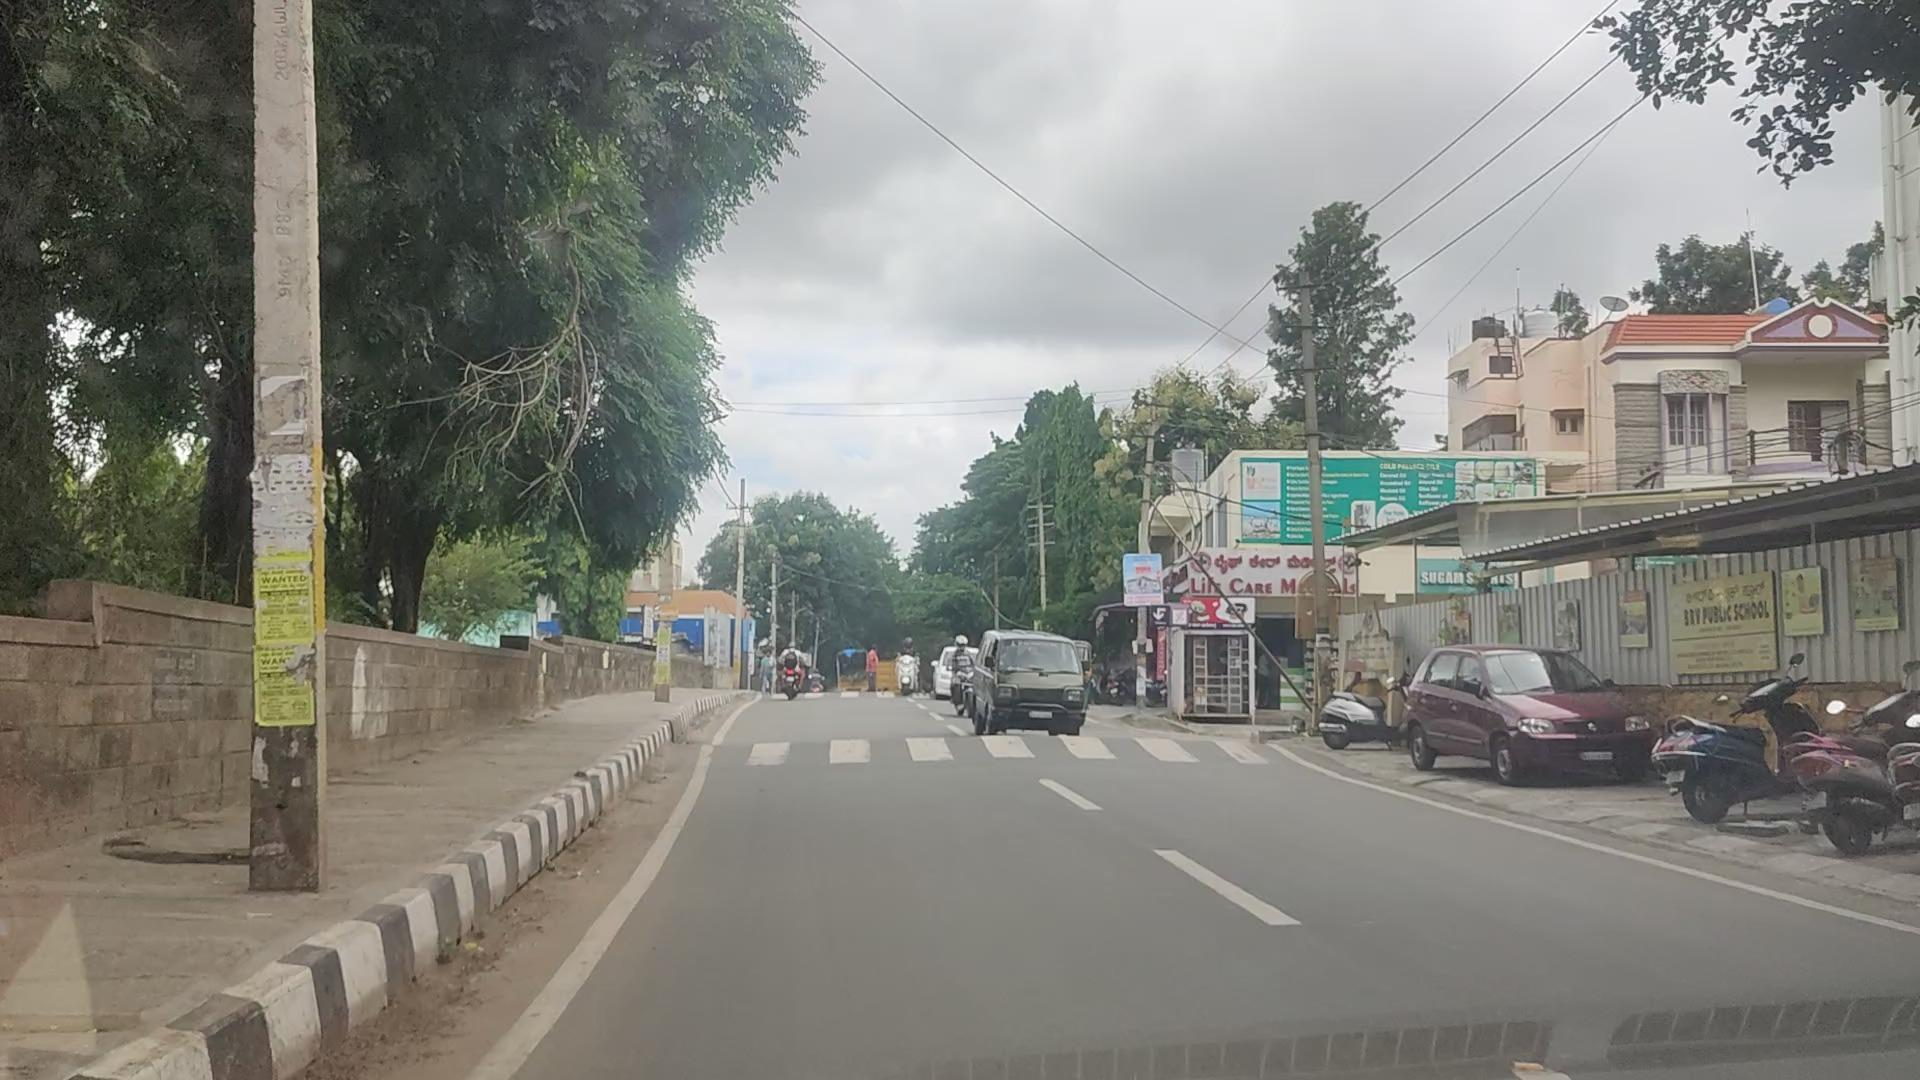LMV: (968, 632, 1084, 735)
SpeedBump: (692, 729, 1251, 767)
